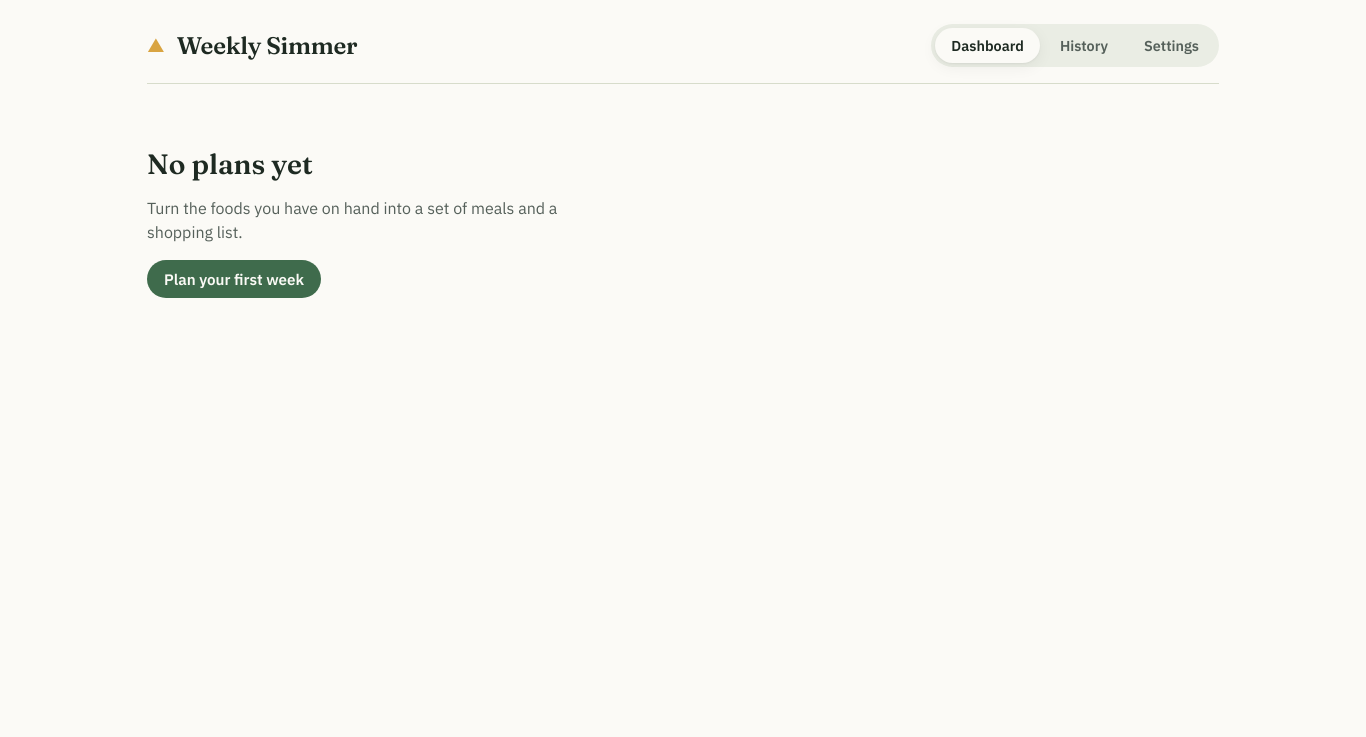
it: App › opens the Settings screen from the nav
Click the button "Settings". click: (1172, 46)
box: [1128, 28, 1215, 63]
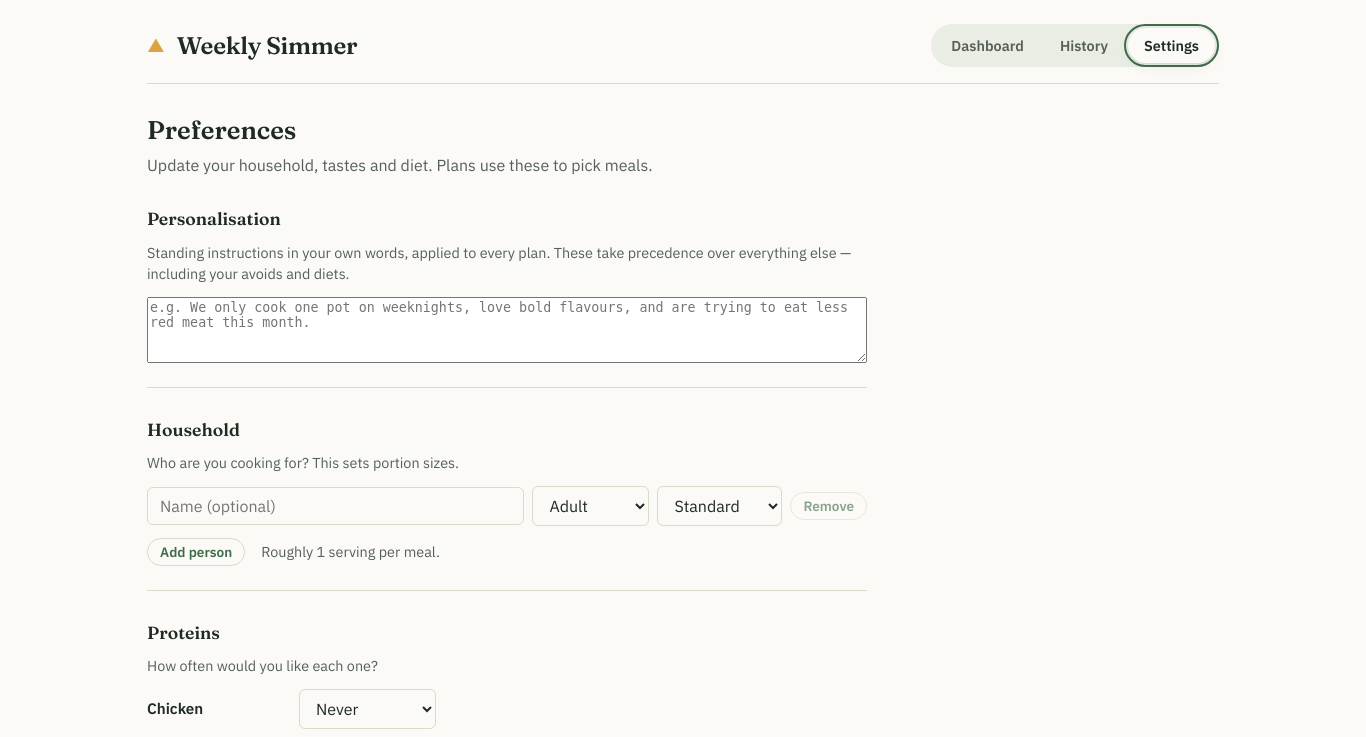
Check: the heading "Preferences" is shown, box [147, 114, 296, 146]
